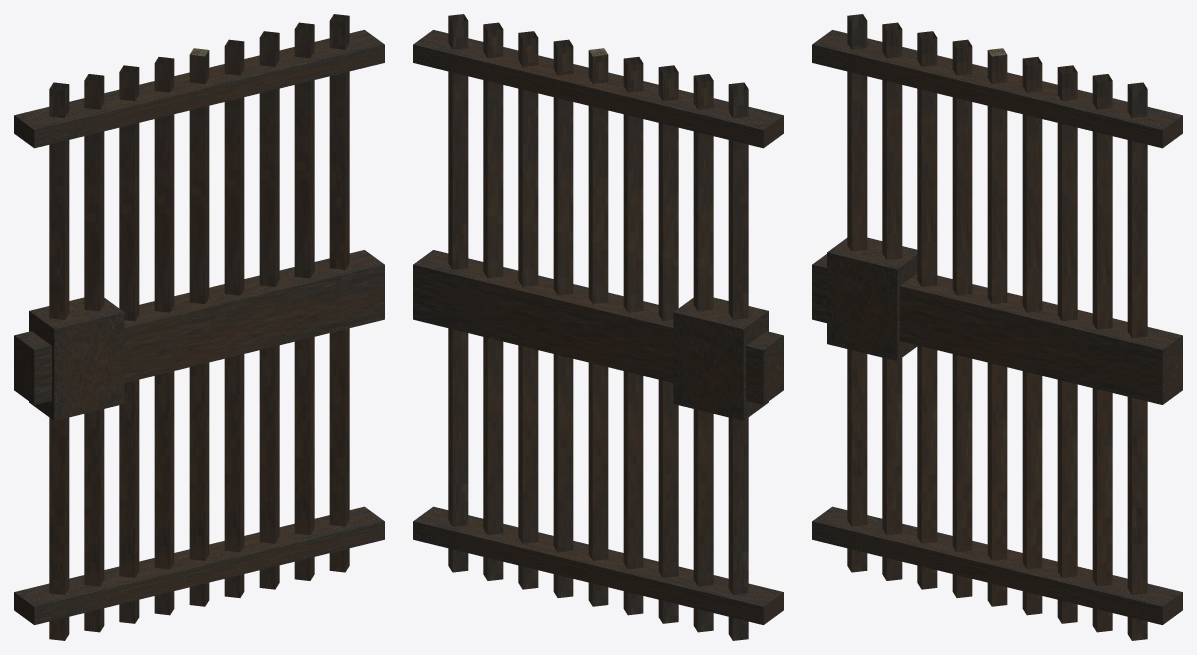
File: door_03.glb
3 views of the same model, side by side, from view 1: azimuth 30°, elevation 25°; view 2: azimuth 150°, elevation 25°; view 3: azimuth 330°, elevation 25° (orthographic).
Visible parts, largest first — view 1: door_03; view 2: door_03; view 3: door_03.
Boxes of the visible parts, box(x1,y1,x2,y2) form: door_03: box(14, 14, 384, 640); door_03: box(413, 14, 783, 640); door_03: box(812, 14, 1182, 640).
Bounding box in the file's own units: 2 × 3 × 0.25.
1 material, 1 textured.
